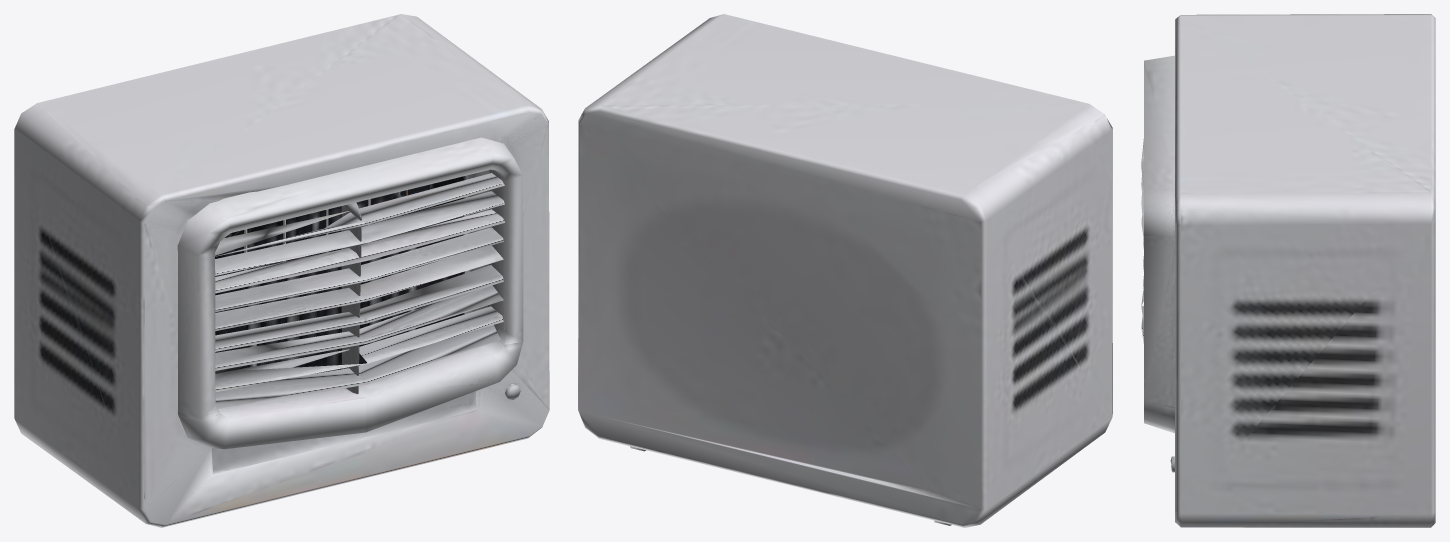
Rendered from ac_modern.glb.
3 views of the same model, side by side, from view 1: azimuth 30°, elevation 25°; view 2: azimuth 150°, elevation 25°; view 3: azimuth 270°, elevation 25° (orthographic).
Bounding box in the file's own units: 0.56 × 0.4467 × 0.3478.
1 material, 1 textured.
